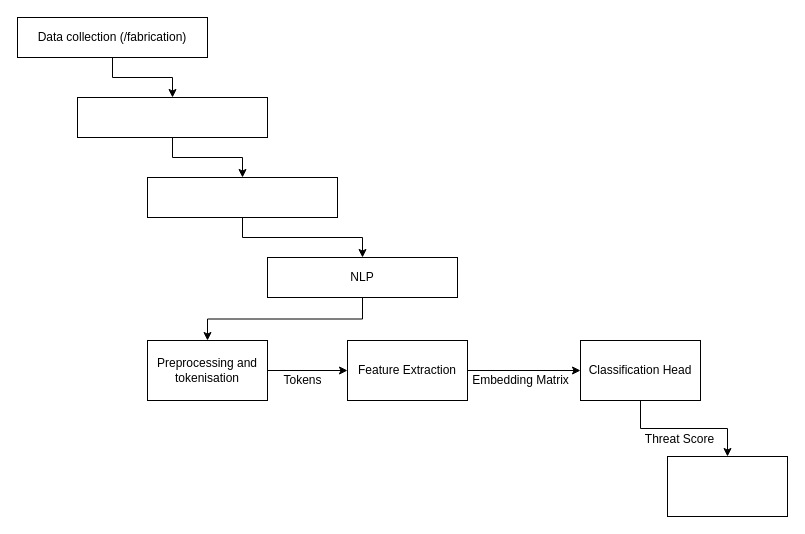
Some shapes in this 805 by 534 pixel diagram are drawn without their labels. Here are the shapes that lost their labels. From the top down, the centre of each, then its label:
At pixel 172 117: "Storing data (and encrypting)".
At pixel 242 197: "Scheduler".
At pixel 727 486: "Management of Analysed Data".
